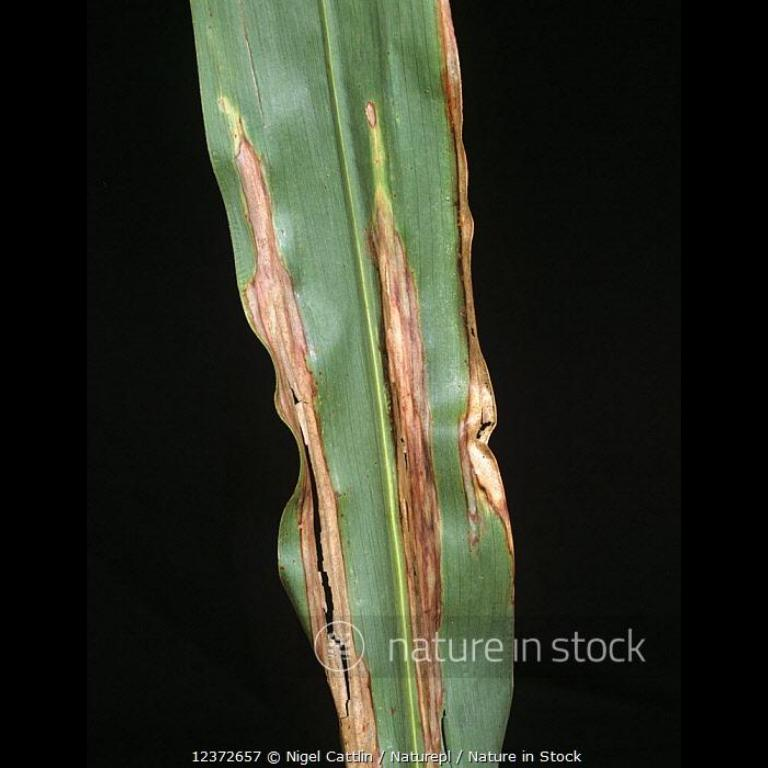blight: (362, 184, 456, 736)
